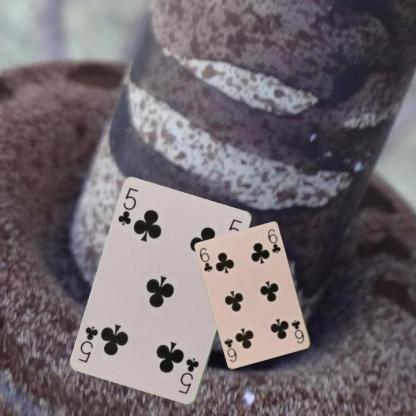5c: (116, 185, 140, 227), (176, 355, 200, 396)
6c: (197, 245, 214, 274), (289, 317, 306, 344)
